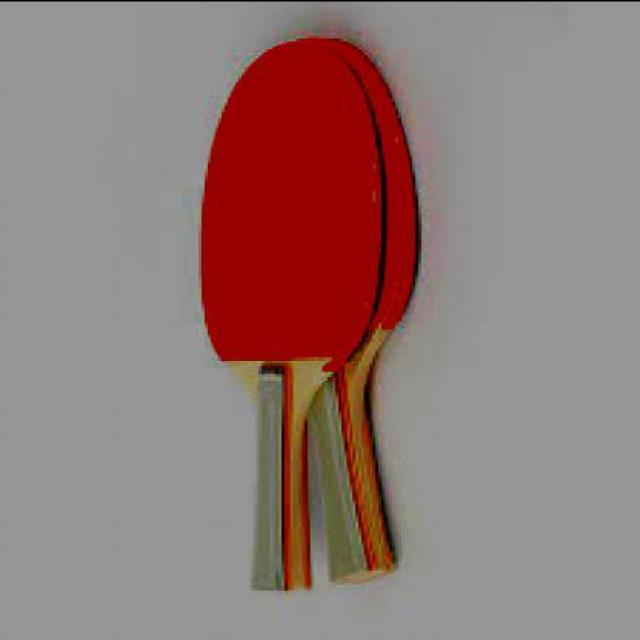table_tennis_racket: (170, 26, 439, 439)
